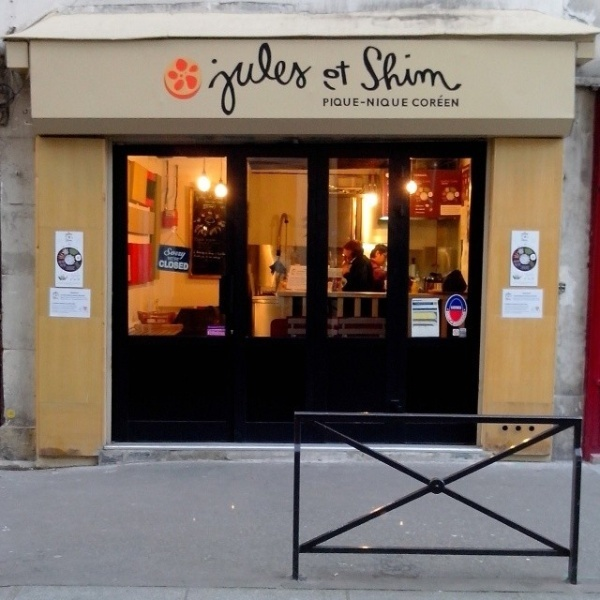text: (209, 42, 224, 120), (225, 42, 240, 120), (241, 42, 256, 120), (257, 42, 272, 120), (273, 42, 288, 120), (289, 42, 304, 120), (369, 46, 384, 94), (385, 46, 400, 94), (401, 46, 416, 94), (417, 46, 432, 94), (433, 46, 448, 94), (449, 46, 464, 94), (305, 42, 313, 120), (321, 60, 336, 97), (337, 60, 352, 97), (360, 46, 368, 94), (161, 257, 176, 272), (65, 301, 80, 316), (513, 301, 528, 316), (177, 257, 191, 272), (417, 93, 432, 107), (433, 93, 448, 107), (52, 301, 64, 316), (65, 290, 80, 302), (163, 246, 176, 259), (337, 96, 352, 107), (353, 96, 368, 107), (369, 96, 384, 107), (385, 96, 400, 107), (177, 246, 189, 259), (322, 96, 336, 107), (449, 93, 460, 107), (529, 291, 542, 301), (81, 290, 91, 302), (505, 301, 512, 316), (529, 301, 536, 316), (518, 291, 528, 301), (401, 96, 409, 107), (207, 42, 208, 120), (412, 93, 416, 107), (353, 60, 354, 97), (158, 257, 160, 272), (62, 290, 64, 302), (81, 301, 82, 316)
